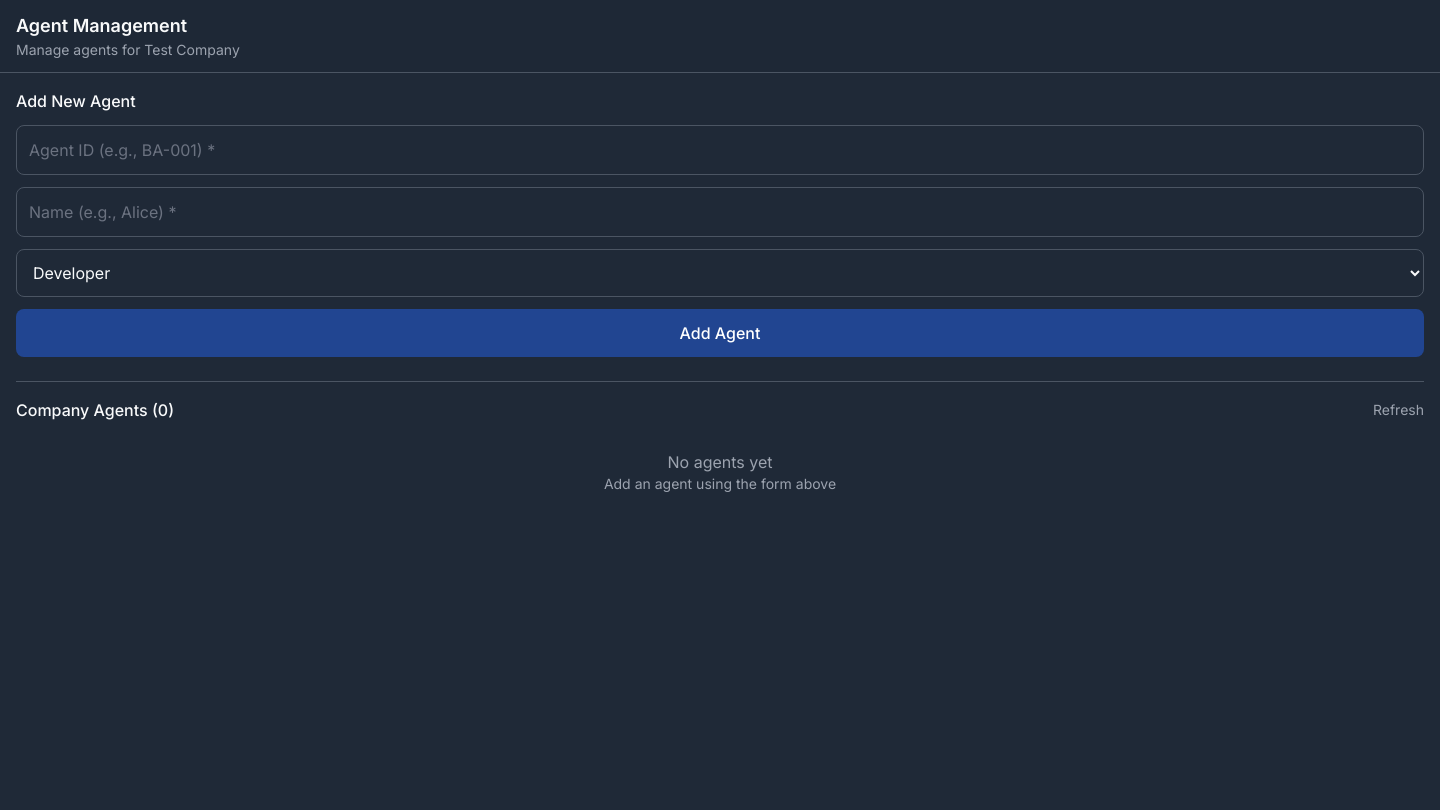
it: AgentManagement › AC2: Agent creation › shows error toast when API fails
Type "DEV-001" into the field with placeholder "Agent ID (e.g., BA-001) *" at (720, 150), box [16,125,1424,175]
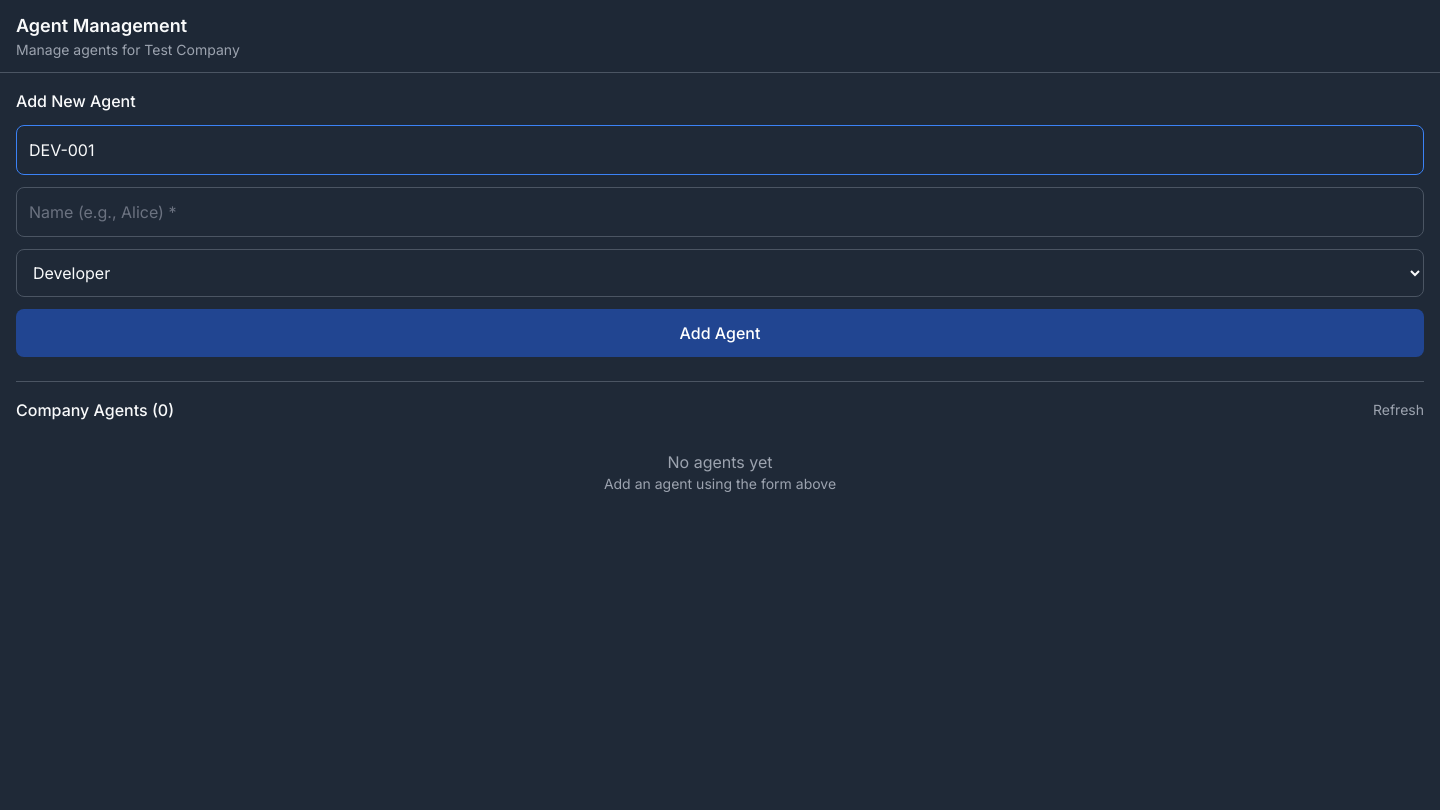
Type "Bob" into the field with placeholder "Name (e.g., Alice) *" at (720, 212), box [16,187,1424,237]
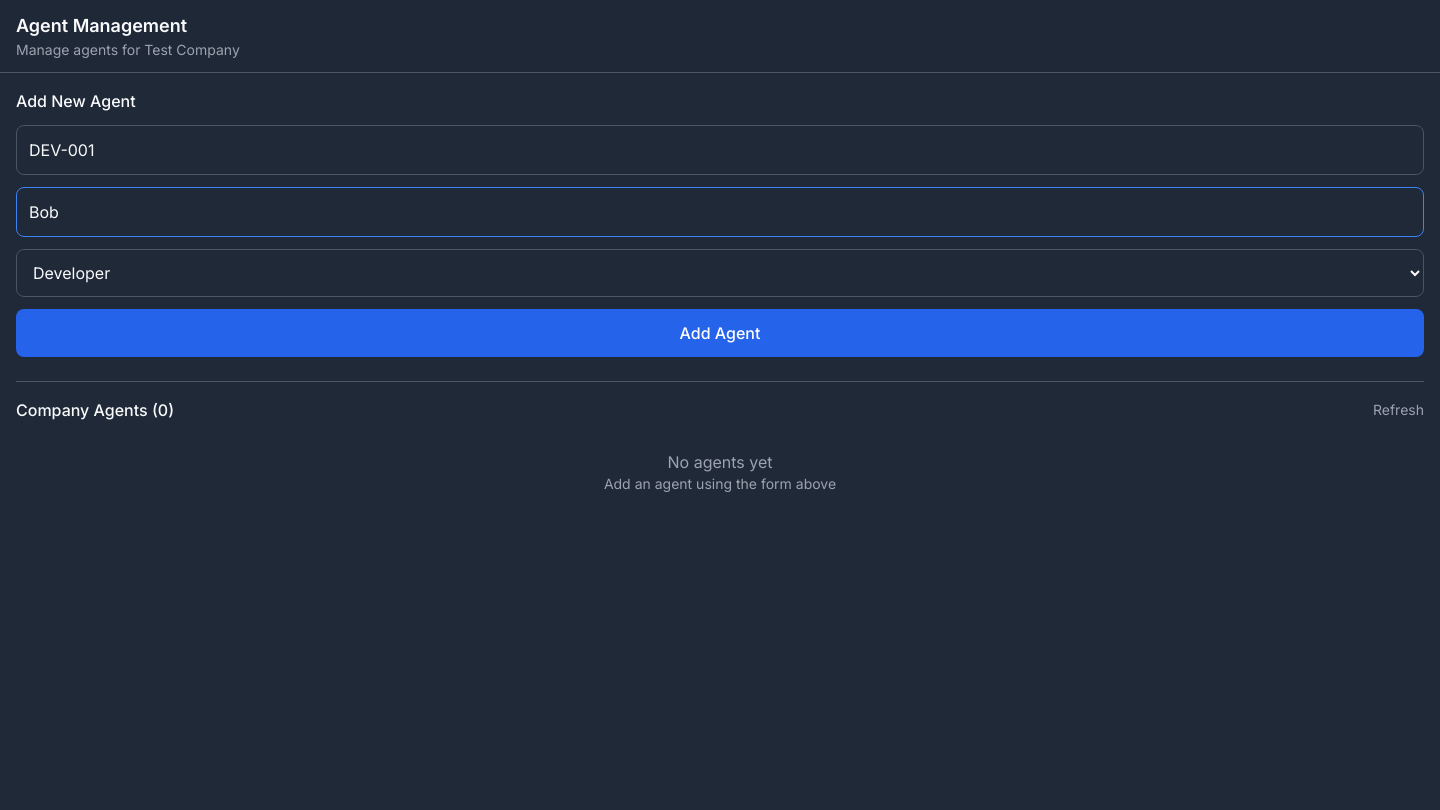
Click the button "Add Agent" at (720, 333), box [16,309,1424,357]
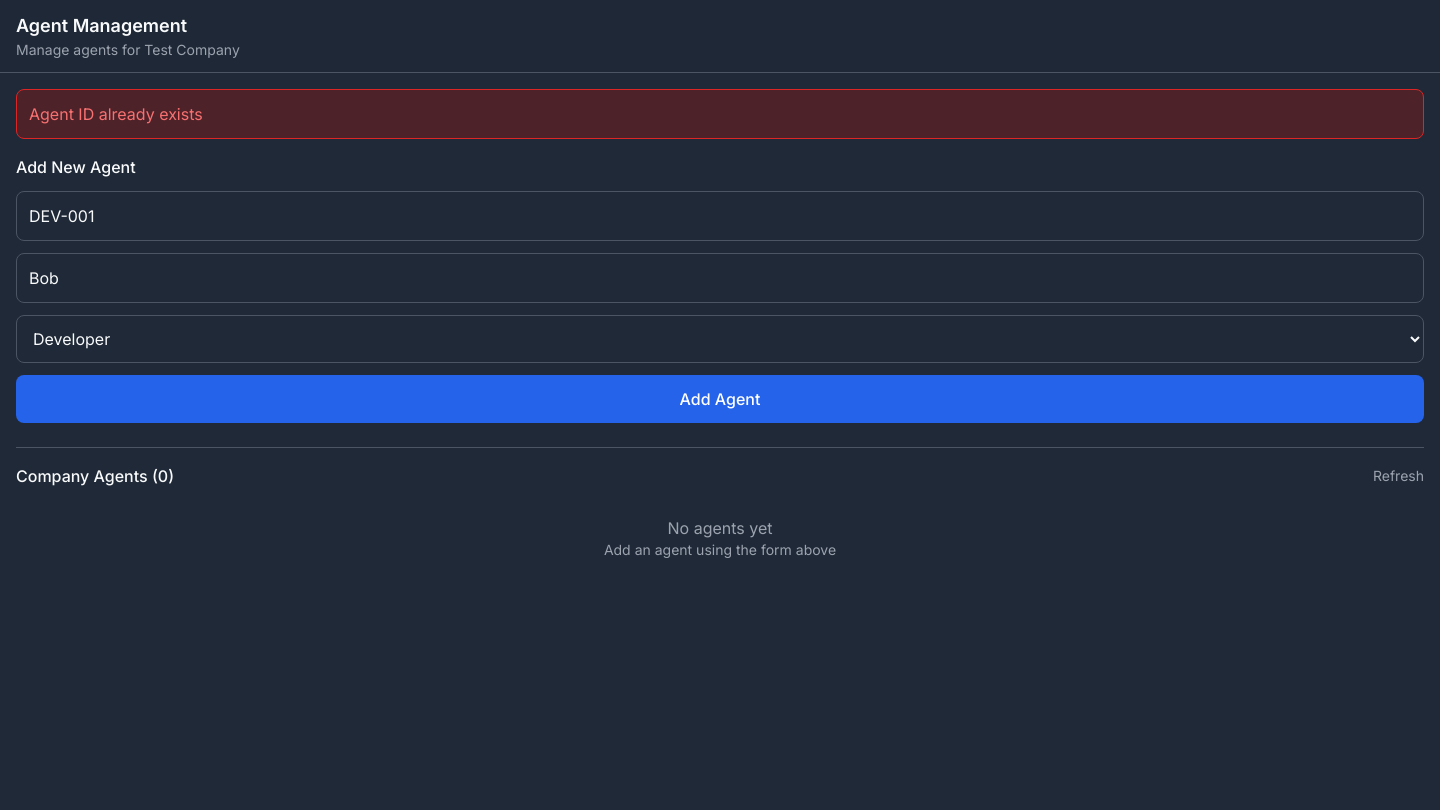
Now the text "Agent ID already exists" is shown, box [16,89,1424,139]
